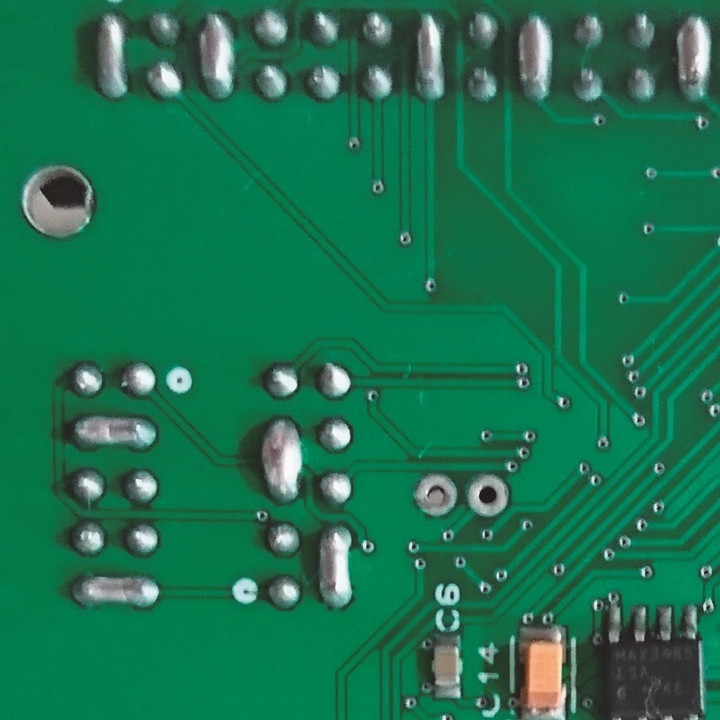F: (410, 468, 459, 522), (466, 473, 515, 520)
P: (67, 566, 162, 616), (257, 415, 304, 506), (673, 12, 716, 110), (65, 414, 161, 456), (515, 11, 556, 109), (313, 520, 355, 613), (196, 9, 235, 103), (413, 8, 447, 111), (93, 12, 129, 108)
